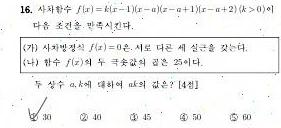choice: (26, 107, 40, 122)
not-choice: (178, 112, 189, 122), (228, 112, 239, 122), (79, 112, 89, 122), (129, 112, 139, 122)
